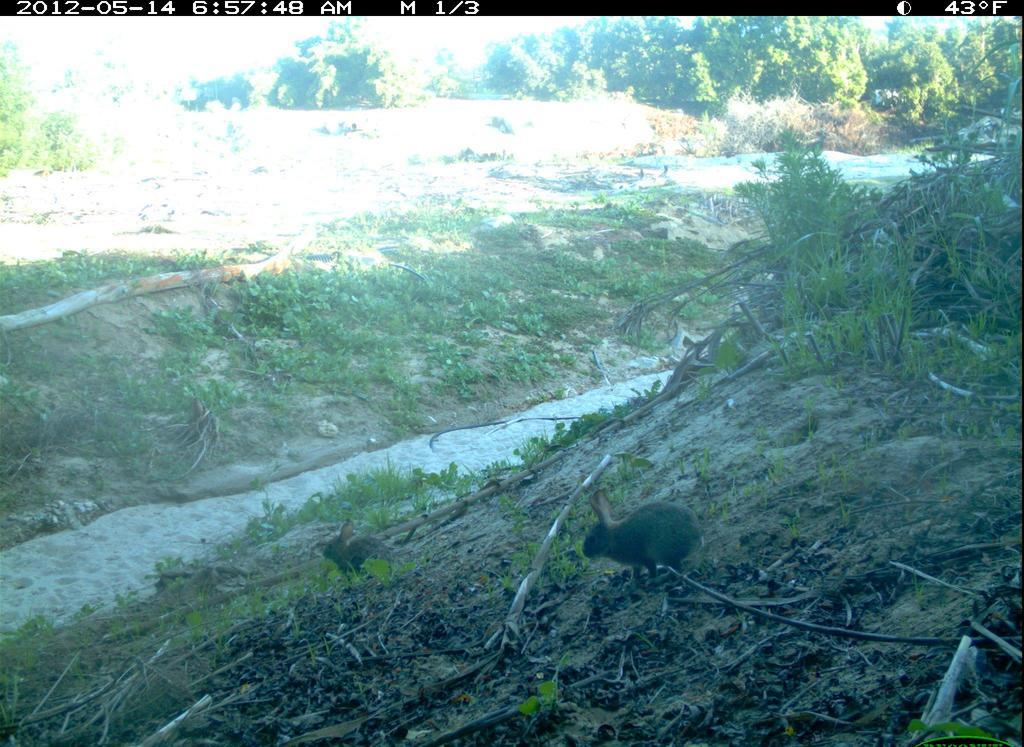rabbit: (578, 487, 713, 597), (318, 511, 398, 587)
